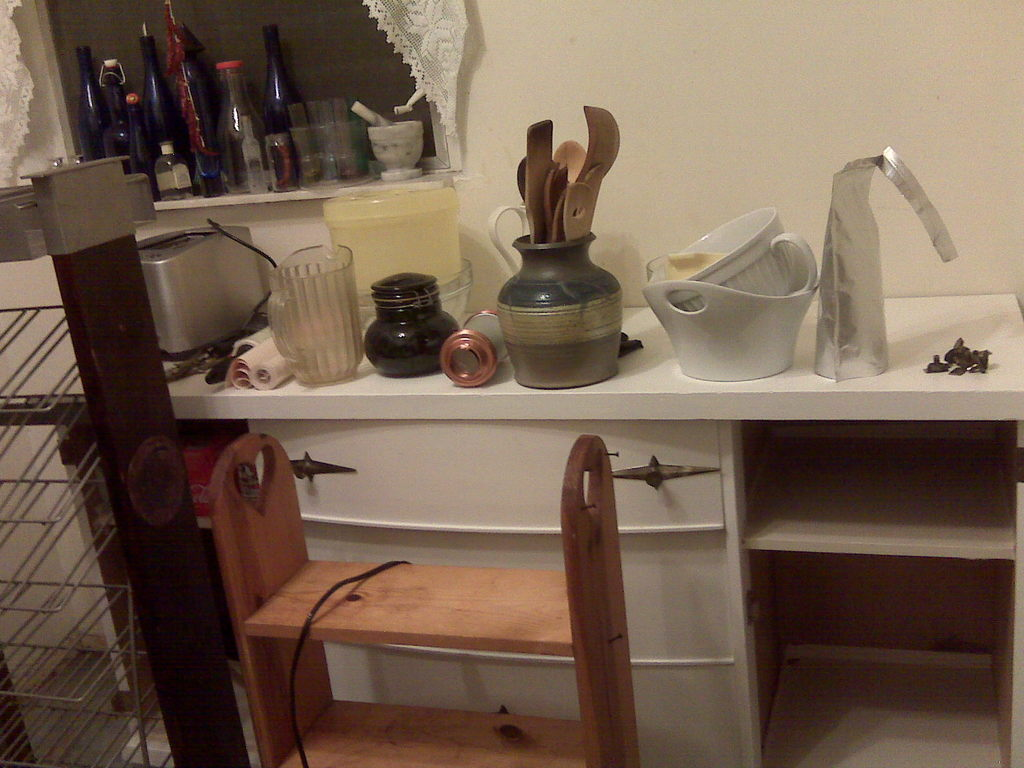cabinet door: (289, 439, 724, 529)
handle: (622, 453, 702, 498), (298, 446, 361, 482)
